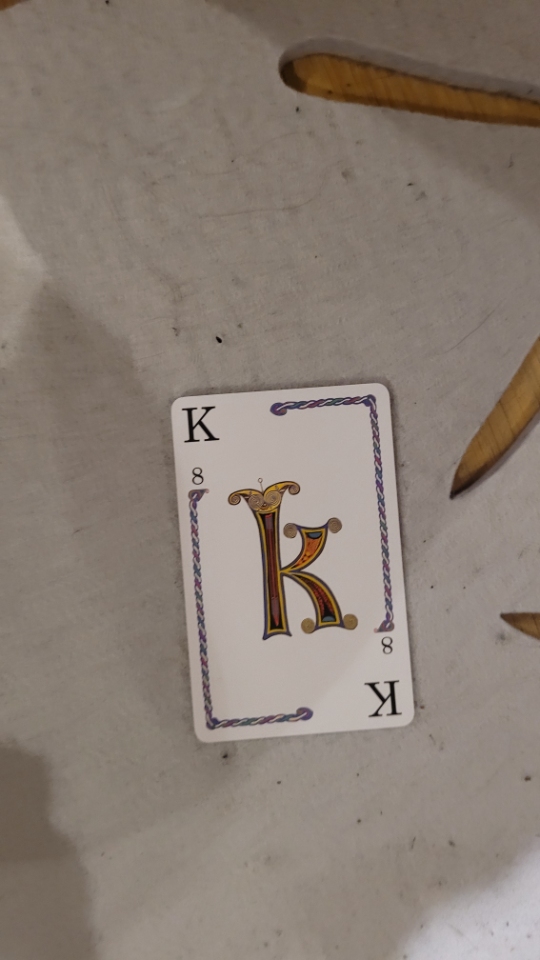K: (166, 374, 427, 747)
